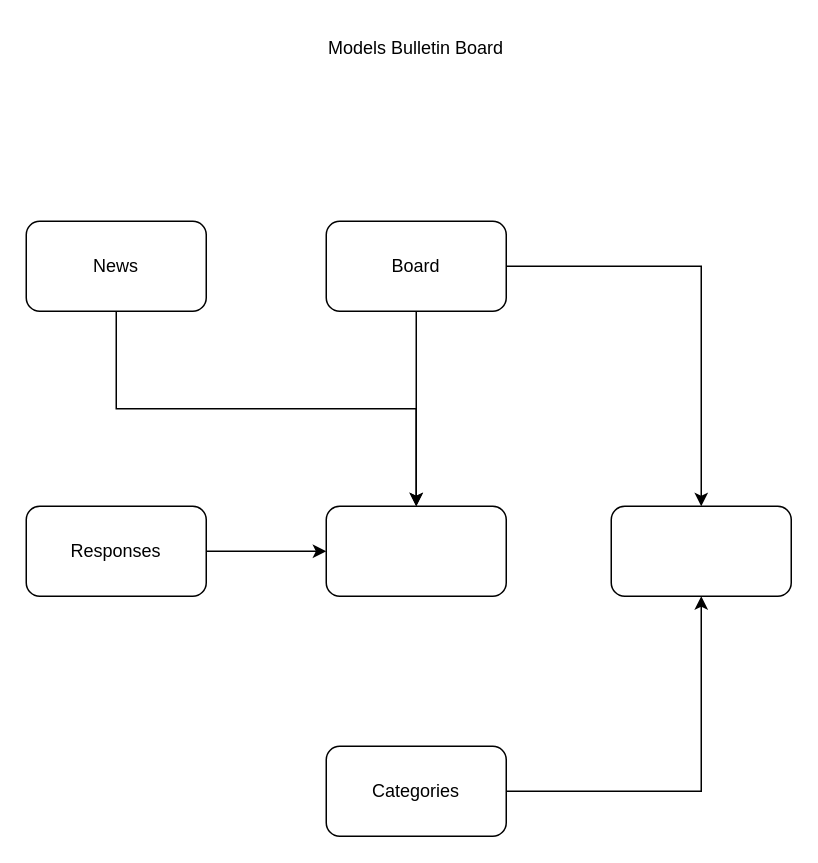
Some shapes in this 818 by 863 pixel diagram are drawn without their labels. Each missing label, with the box of its shape:
BoardsCategories: (610, 505, 791, 596)
Users: (325, 505, 506, 596)
